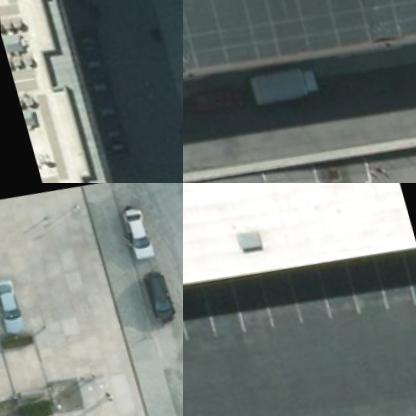car: (186, 77, 247, 120), (144, 268, 181, 328), (122, 205, 160, 261), (0, 279, 32, 341)
